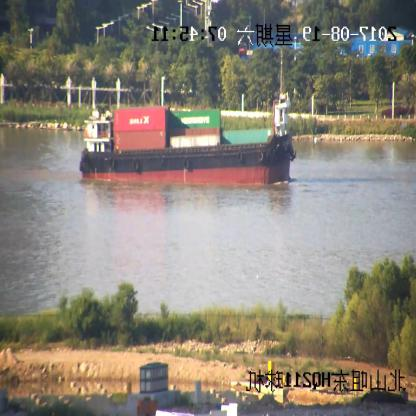Container Ship: (79, 56, 295, 183)
